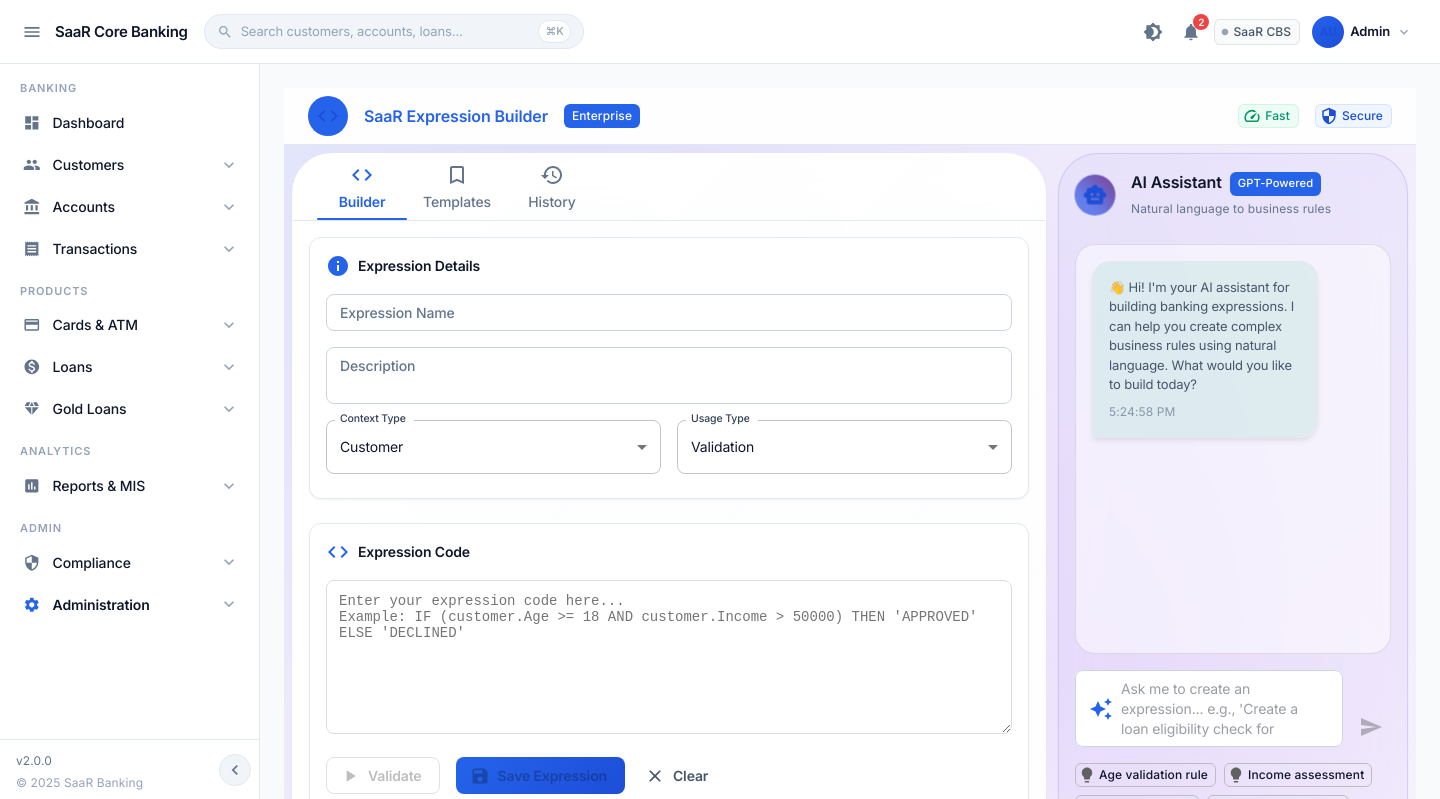
Test: Expression Builder E2E (WorldClass UI) › enters and validates/saves an expression (backend optional)
Check: the heading "SaaR Expression Builder" is shown, box [364,104,548,128]
Check: the heading "Expression Code" is shown, box [326,540,470,564]
Type "Demo Age Check" into the field labelled "Expression Name" at x=669, y=313, box [326,294,1012,331]
(page scrolled)
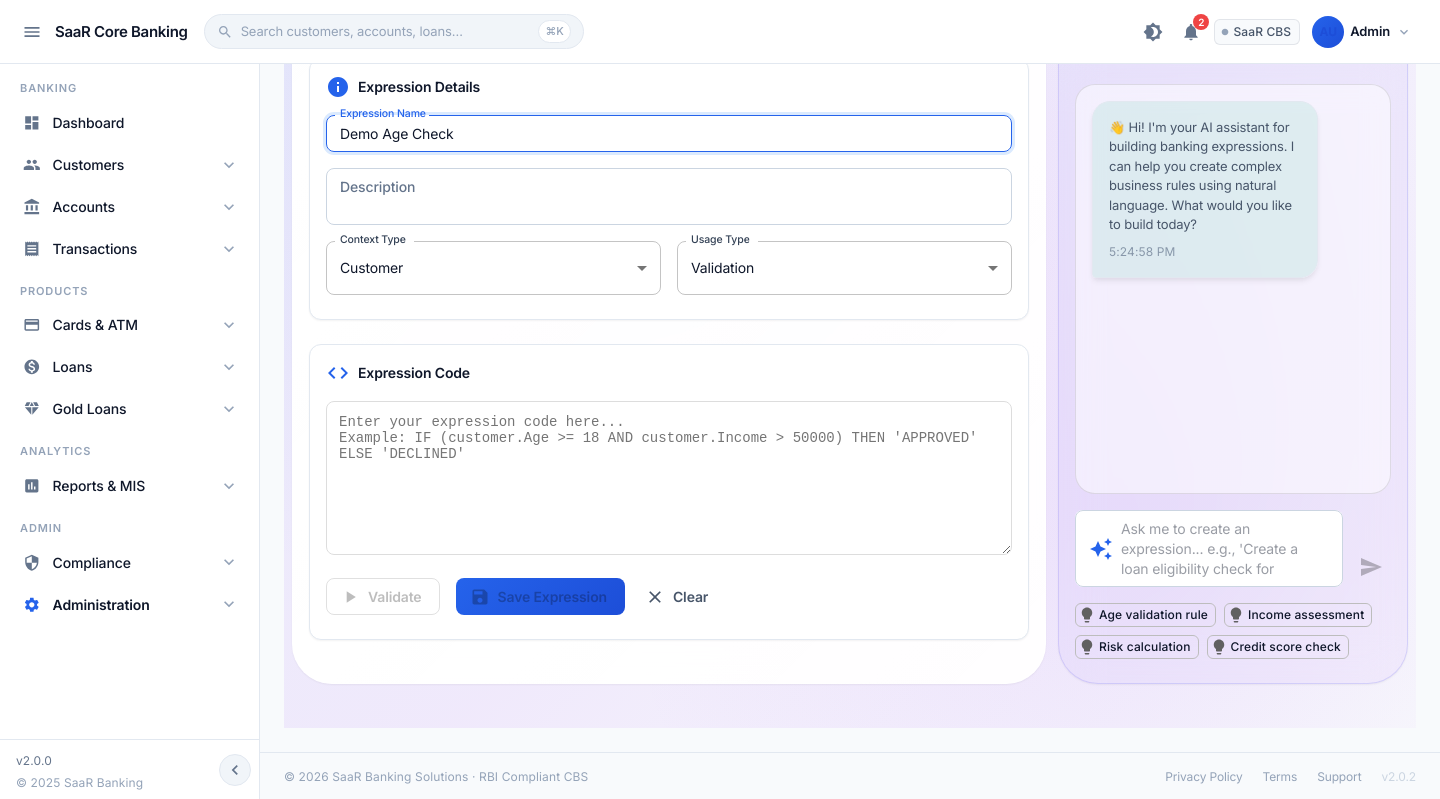
Type "IF (customer.Age >= 18) THEN true ELSE false" into the text box with test id "expression-editor" at x=669, y=478, box [326,401,1012,555]
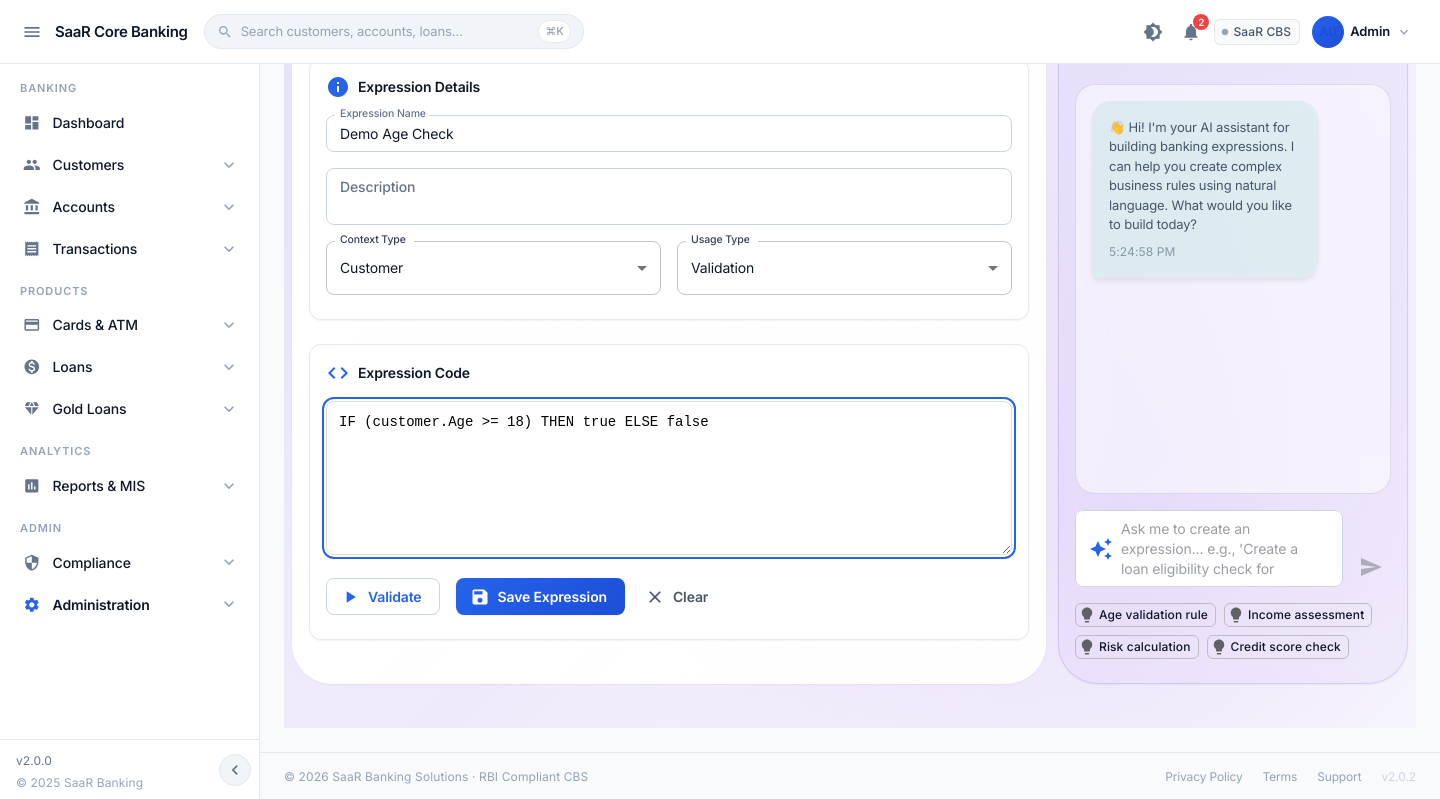
Click the button with test id "btn-validate" at x=383, y=597, box [326,578,440,615]
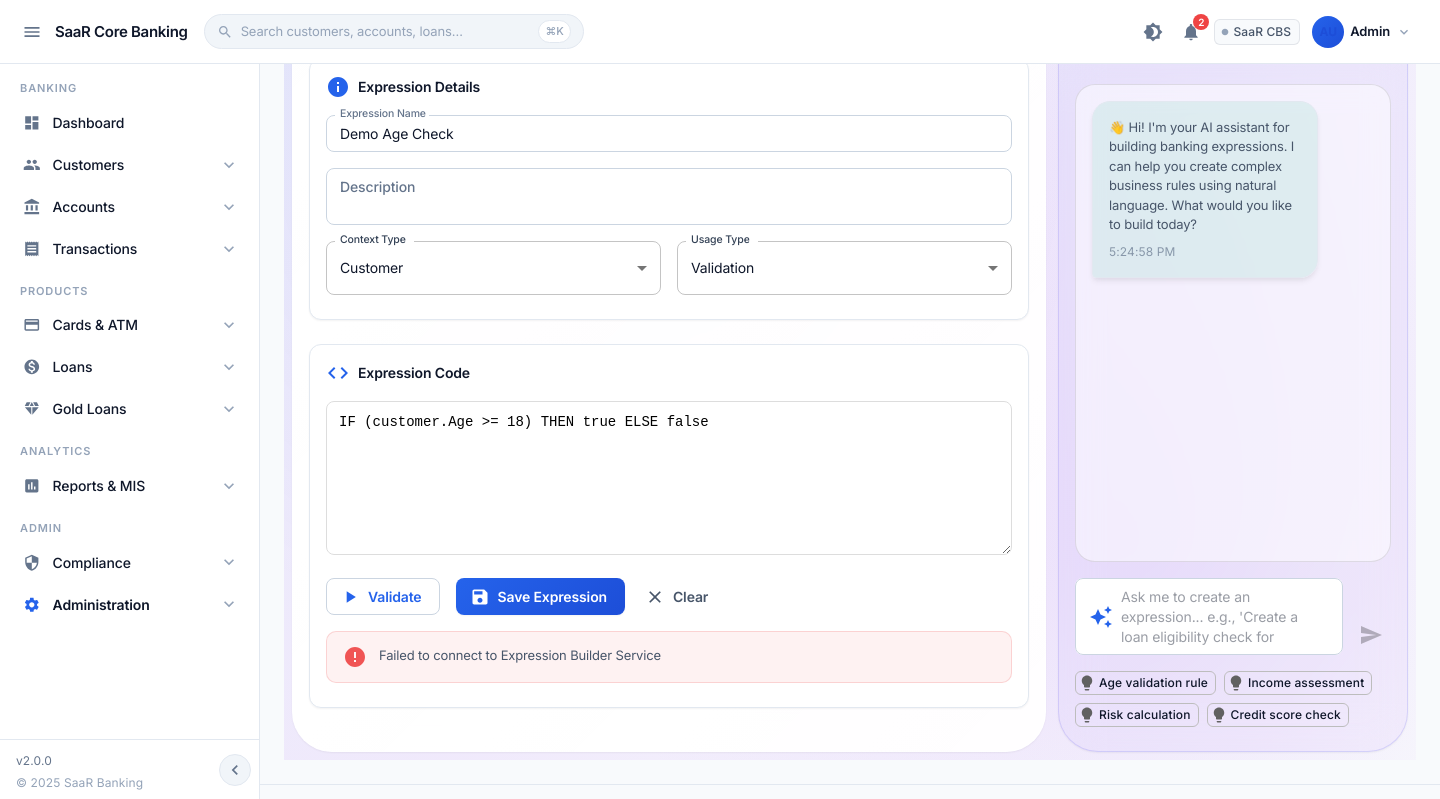
Click the button with test id "btn-save" at x=541, y=597, box [456,578,625,615]
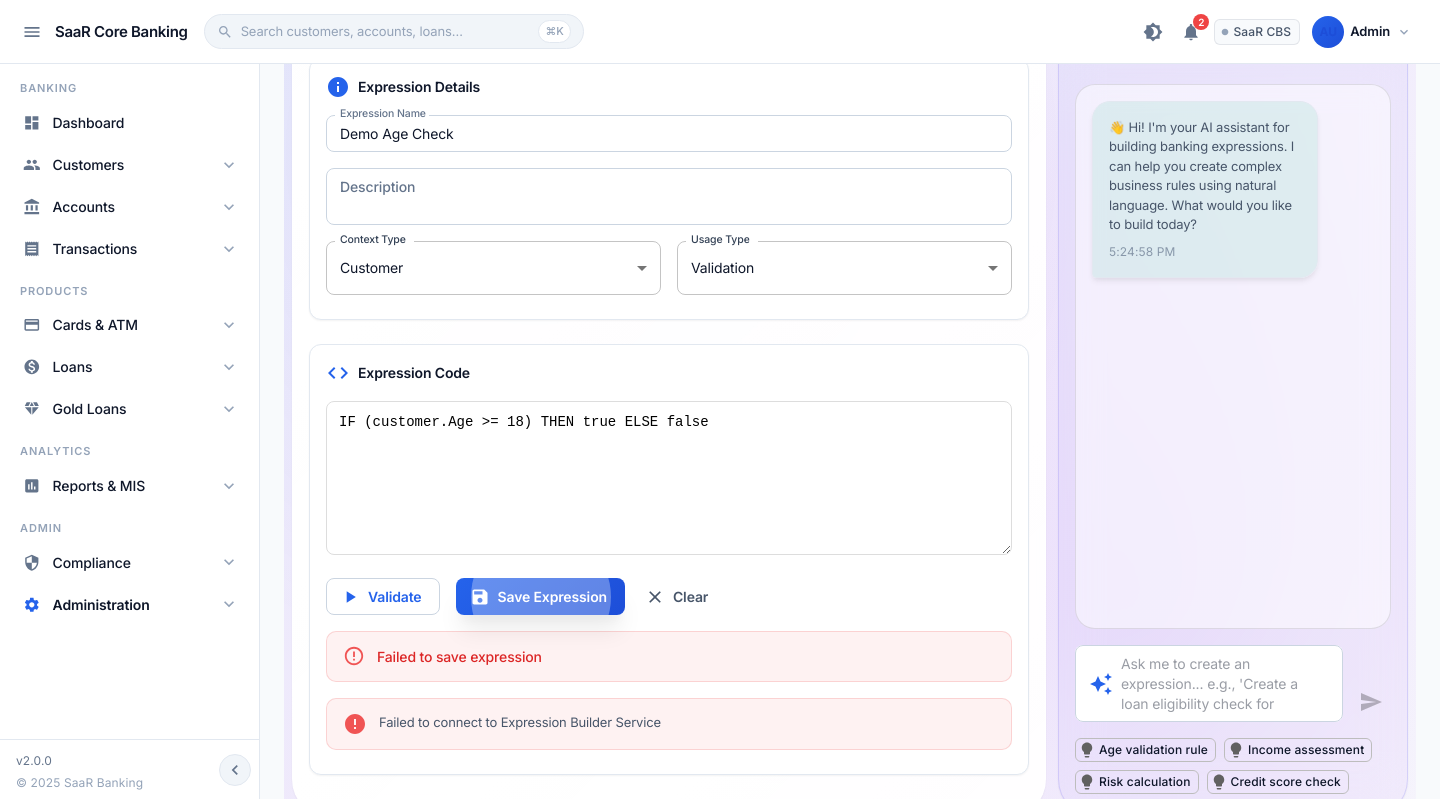
Check: the message "Failed to save expression" is shown, box [326,631,1012,682]
